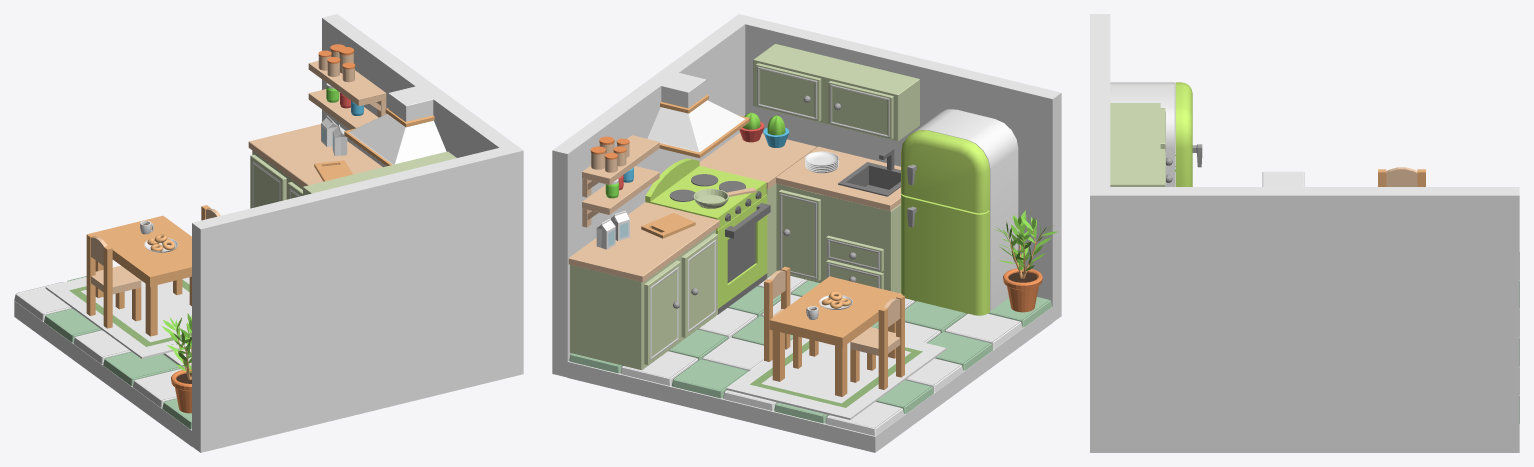
The model's file is Kitchen.gltf.
3 views of the same model, side by side, from view 1: azimuth 30°, elevation 25°; view 2: azimuth 150°, elevation 25°; view 3: azimuth 270°, elevation 25° (orthographic). The views are drawn at different scales.
Visible parts, largest first — view 1: Wall, Floor tile, Counter, Carpet, Table, Hood, Floor, Chair.001, Plant, Hang shelf.001, Wall shelf, Wood jar (+2 smaller); view 2: Wall, Fridge, Floor tile, Counter, Counter with sink, Wall shelf, Stove, Floor, Carpet, Table, Hood, Counter corner (+12 smaller); view 3: Wall, Wall shelf, Fridge, Chair.001, Hood.
Boxes of the visible parts, x1,y1,x2,y2 form: Wall: [192, 14, 523, 452]; Floor tile: [14, 276, 191, 429]; Counter: [248, 124, 382, 208]; Carpet: [45, 277, 191, 358]; Table: [92, 215, 191, 336]; Hood: [344, 86, 446, 165]; Floor: [14, 301, 191, 446]; Chair.001: [86, 233, 141, 328]; Plant: [161, 313, 191, 413]; Hang shelf.001: [308, 61, 386, 117]; Wall shelf: [303, 151, 456, 195]; Wood jar: [318, 44, 355, 82]; Wall: [552, 14, 1061, 377]; Fridge: [901, 109, 1018, 315]; Floor tile: [569, 275, 1052, 435]; Counter: [568, 202, 719, 370]; Counter with sink: [776, 146, 900, 293]; Wall shelf: [753, 44, 919, 141]; Stove: [645, 158, 770, 314]; Floor: [567, 307, 1052, 452]; Carpet: [726, 337, 946, 419]; Table: [769, 276, 902, 396]; Hood: [647, 72, 749, 158]; Counter corner: [699, 132, 816, 278]; Wall: [1090, 14, 1519, 452]; Wall shelf: [1110, 103, 1172, 186]; Fridge: [1110, 82, 1202, 186]; Chair.001: [1378, 167, 1425, 186]; Hood: [1262, 171, 1304, 187].
Size of the model in its own units: 7.88 by 5.01 by 7.57.
